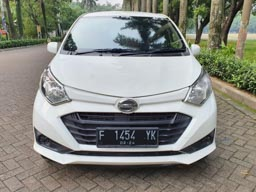plat: (97, 128, 159, 141)
